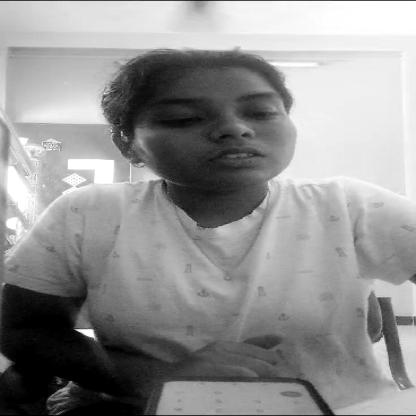Distracted: (125, 73, 306, 185)
